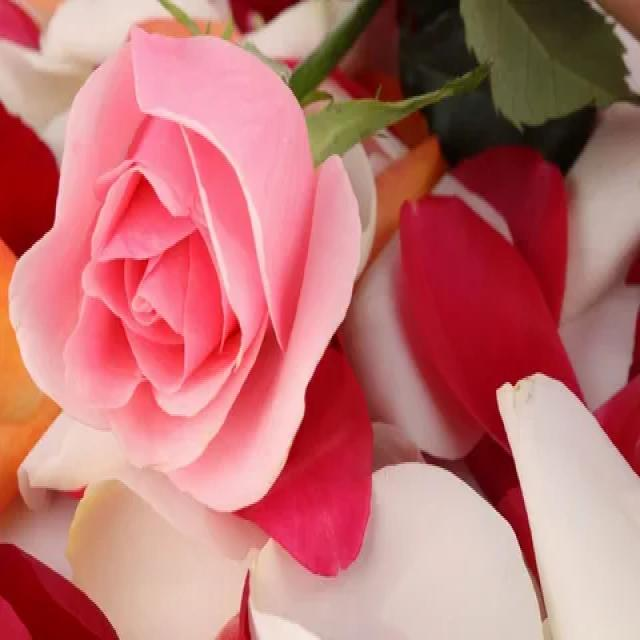rose: (14, 22, 360, 540)
